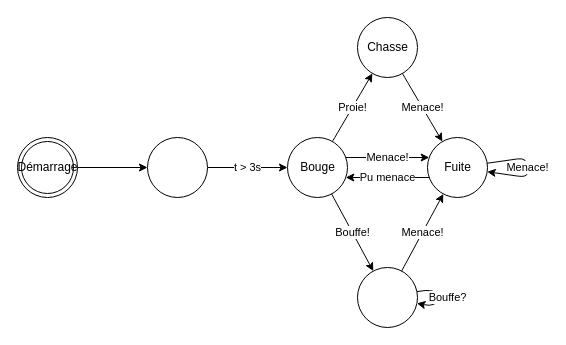
Some shapes in this 566 by 345 pixel diagram are drawn without their labels. Each missing label, with the centre of its shape:
Broute: point (387, 297)
Inactif: point (177, 167)
